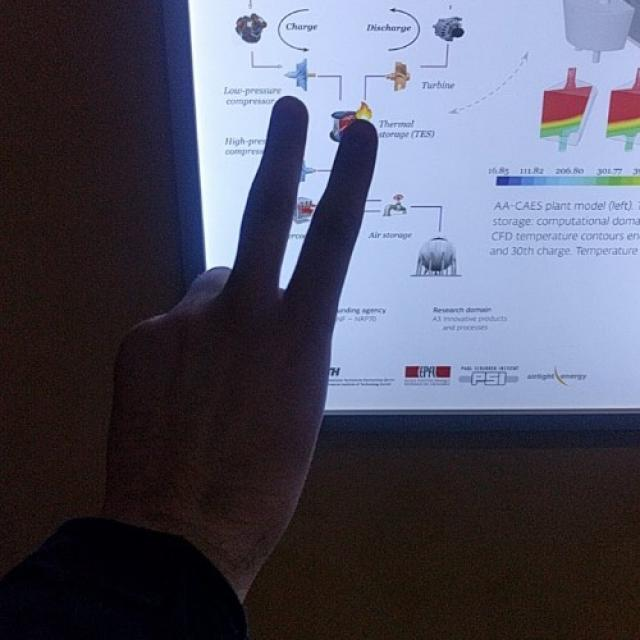scissors: (120, 92, 380, 502)
